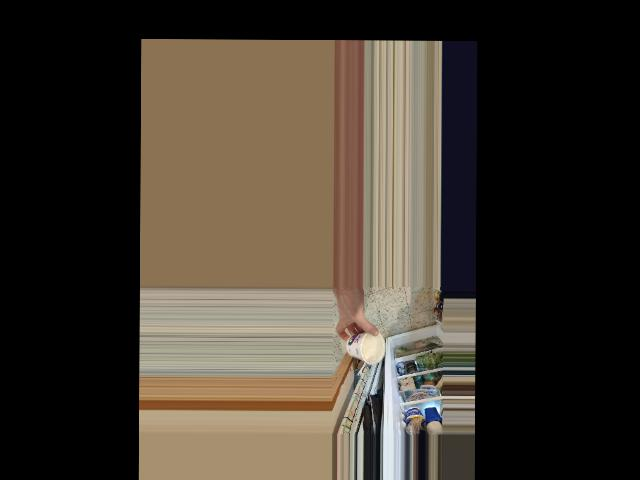cotage: (347, 331, 385, 361)
